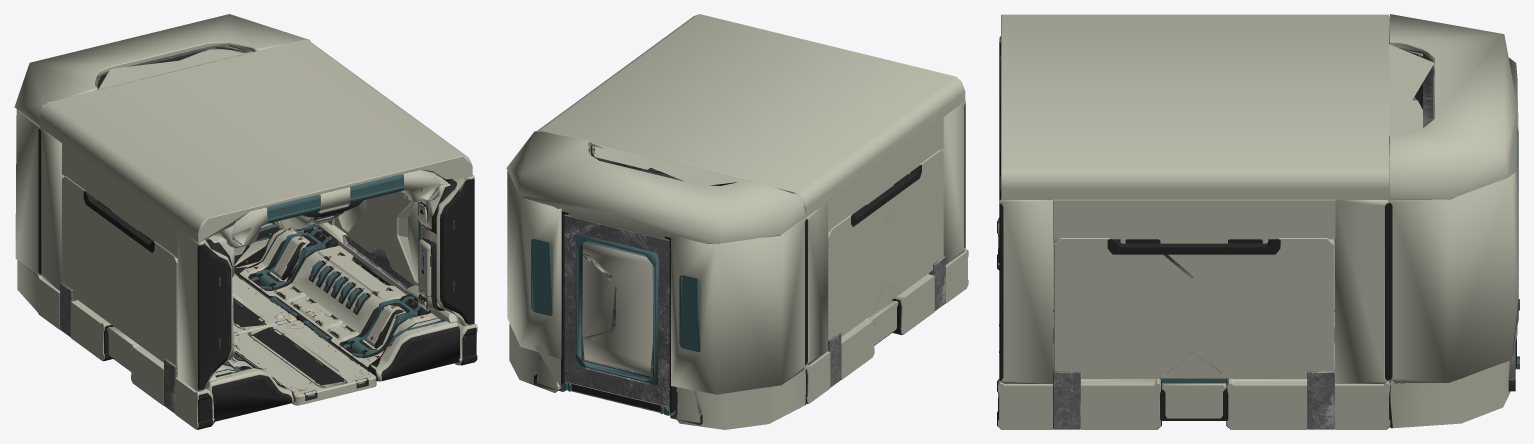
The model's file is hallway.glb.
3 views of the same model, side by side, from view 1: azimuth 30°, elevation 25°; view 2: azimuth 150°, elevation 25°; view 3: azimuth 270°, elevation 25° (orthographic). The views are drawn at different scales.
Parts seen in each view (by area): view 1: Slice.003_Piece.016_1Plastic.001_0, Slice.003_Piece.016_1Rubber.001_0, Slice.003_Piece.001_Piece.006_1Metal_painted.001_0, Slice.003_Piece.016_1Metal.001_0; view 2: Slice.003_Piece.016_1Plastic.001_0, Slice.003_Piece.016_1Metal.001_0, Slice.003_Piece.001_Piece.006_1Metal_painted.001_0, Slice.003_Piece.016_1Rubber.001_0; view 3: Slice.003_Piece.016_1Plastic.001_0, Slice.003_Piece.016_1Rubber.001_0, Slice.003_Piece.016_1Metal.001_0, Slice.003_Piece.001_Piece.006_1Metal_painted.001_0.
Boxes of the visible parts, <box> form: Slice.003_Piece.016_1Plastic.001_0: <box>14,14,477,429</box>; Slice.003_Piece.016_1Rubber.001_0: <box>20,47,476,429</box>; Slice.003_Piece.001_Piece.006_1Metal_painted.001_0: <box>206,174,446,388</box>; Slice.003_Piece.016_1Metal.001_0: <box>60,45,454,413</box>; Slice.003_Piece.016_1Plastic.001_0: <box>506,14,968,429</box>; Slice.003_Piece.016_1Metal.001_0: <box>534,145,945,415</box>; Slice.003_Piece.001_Piece.006_1Metal_painted.001_0: <box>531,234,700,415</box>; Slice.003_Piece.016_1Rubber.001_0: <box>533,103,965,425</box>; Slice.003_Piece.016_1Plastic.001_0: <box>998,14,1518,429</box>; Slice.003_Piece.016_1Rubber.001_0: <box>997,42,1516,429</box>; Slice.003_Piece.016_1Metal.001_0: <box>1053,48,1515,429</box>; Slice.003_Piece.001_Piece.006_1Metal_painted.001_0: <box>1000,60,1519,383</box>.
Size of the model in its own units: 4.47 by 3.29 by 5.92.
11 materials, 2 textured.
